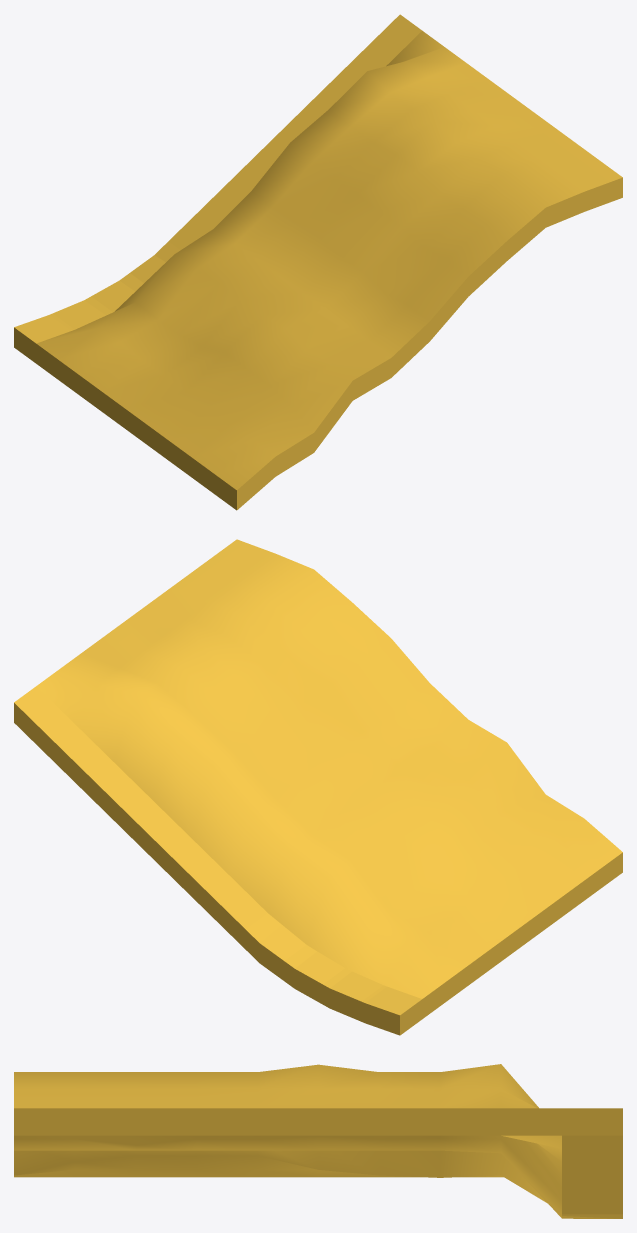
Rendered from Steil - Unten - Hügle x - b.fbx.
The picture shows the model from 3 angles, top to bottom: view 1: azimuth 30°, elevation 25°; view 2: azimuth 150°, elevation 25°; view 3: azimuth 270°, elevation 25°; orthographic projection. The views are drawn at different scales.
Visible parts, largest first — view 1: Steil - Unten - Hügle x - b; view 2: Steil - Unten - Hügle x - b; view 3: Steil - Unten - Hügle x - b.
Part boxes in pixels (x1,y1,x2,y2): Steil - Unten - Hügle x - b: [14, 14, 622, 510]; Steil - Unten - Hügle x - b: [14, 539, 622, 1035]; Steil - Unten - Hügle x - b: [14, 1064, 622, 1218].
Bounding box in the file's own units: 394 × 233 × 394.
